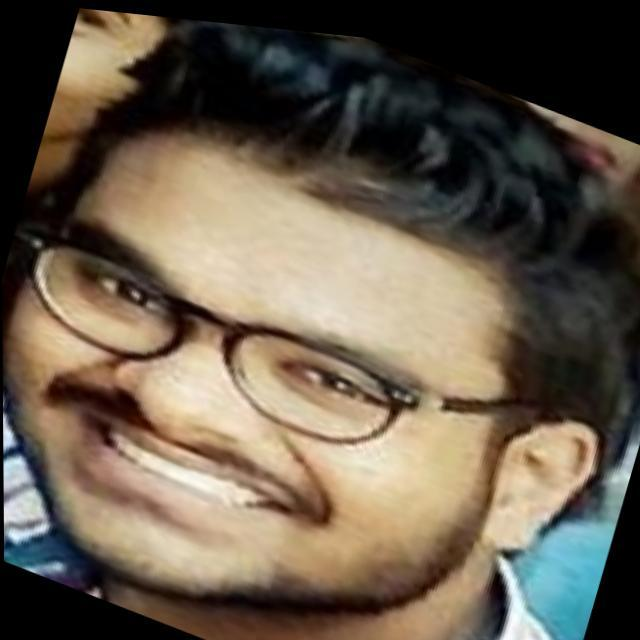Nonhelmet: (2, 11, 637, 636)
